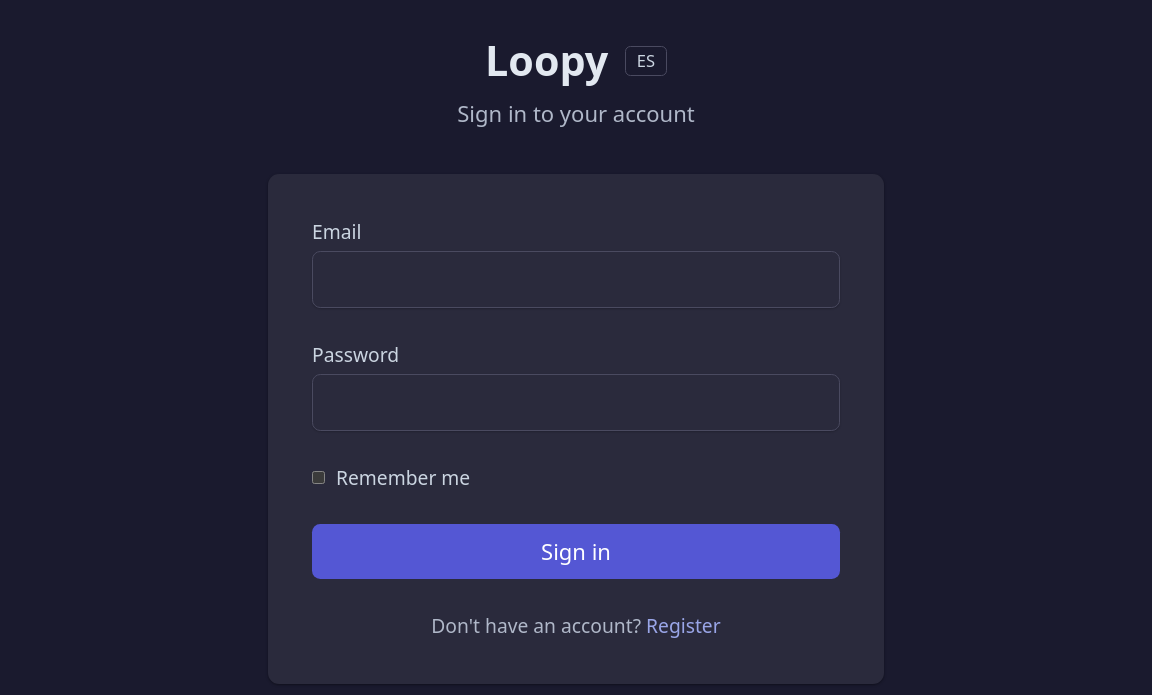
Test: E2E-style Integration Tests › Login flow -> Dashboard loads with data › logs in and sees dashboard stats
Note: Fill in login form
Type "test@example.com" into the field labelled "Email" at (576, 279), box [312,251,840,308]
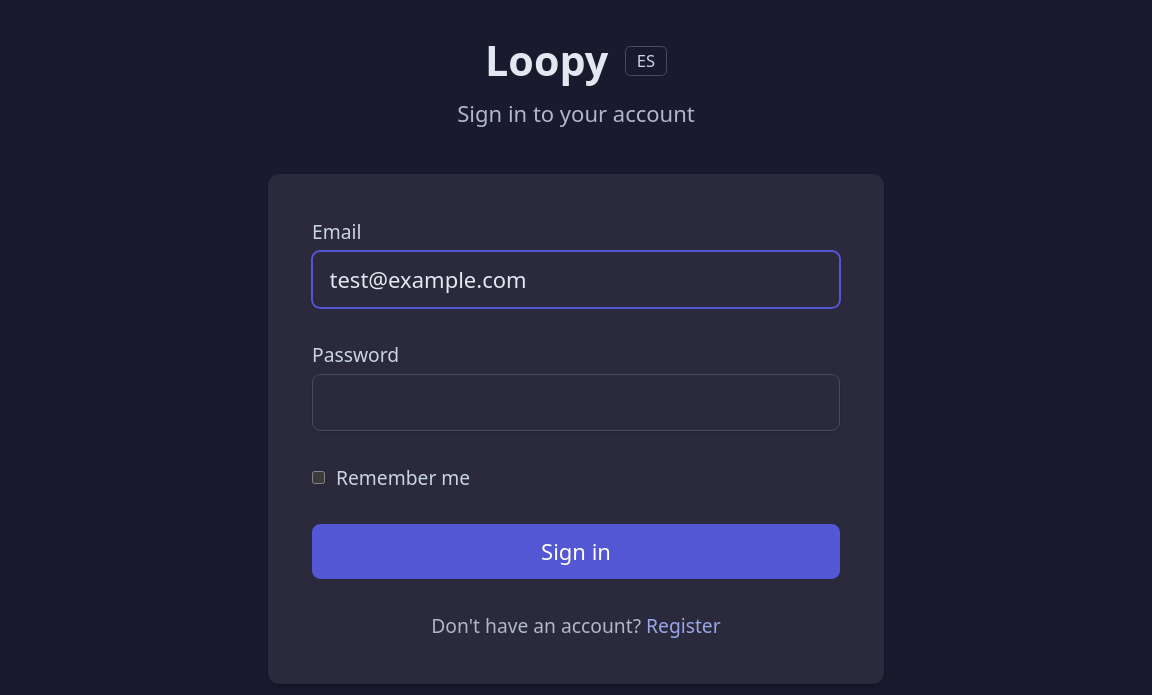
Type "password123" into the password field labelled "Password" at (576, 402), box [312,374,840,431]
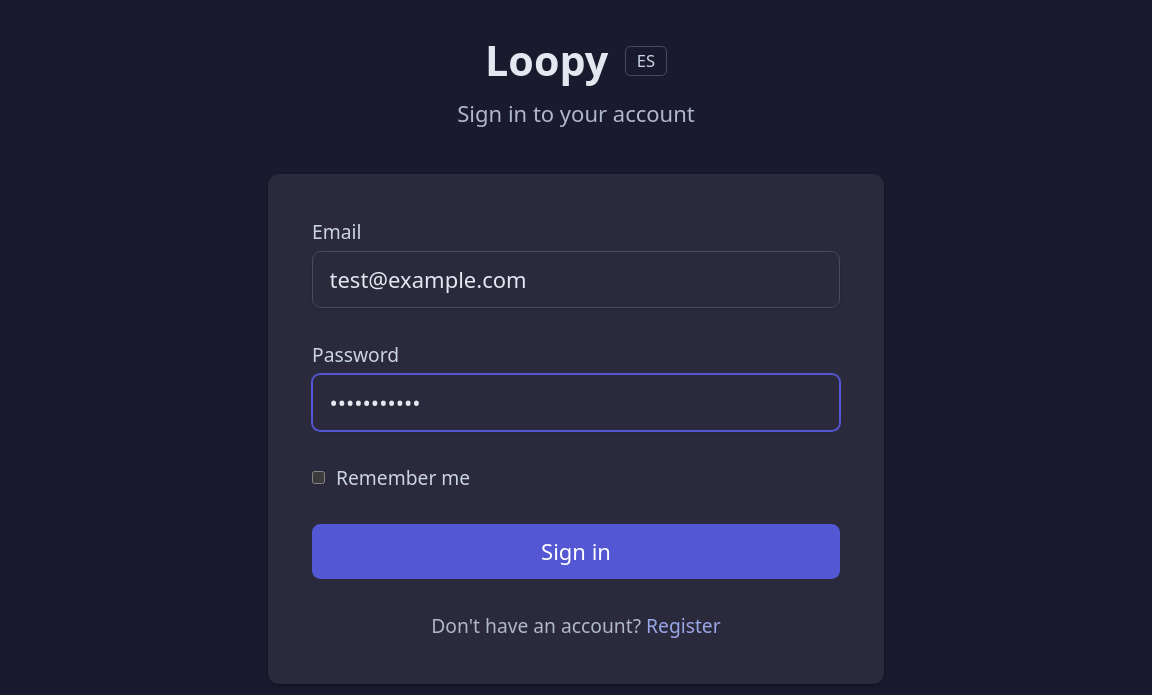
Click the button "Sign in" at (576, 552), box [312,524,840,579]
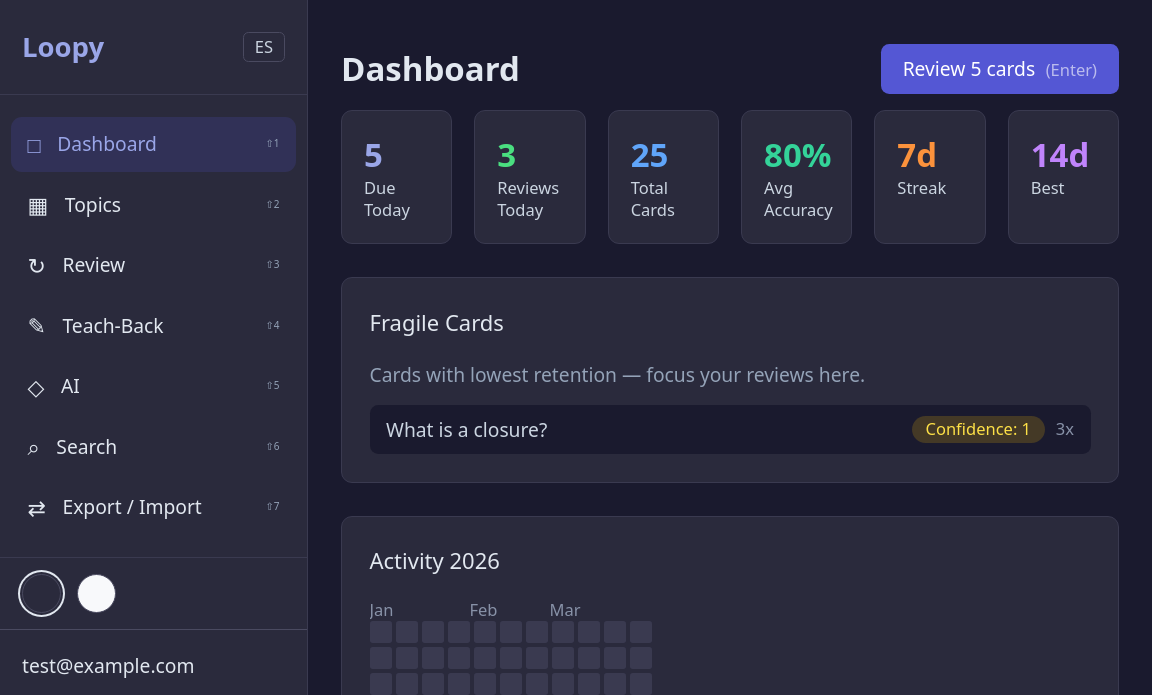
Check: the heading "Dashboard" is shown, box [341,47,520,91]
Check: the text "25" is shown, box [631,132,668,177]
